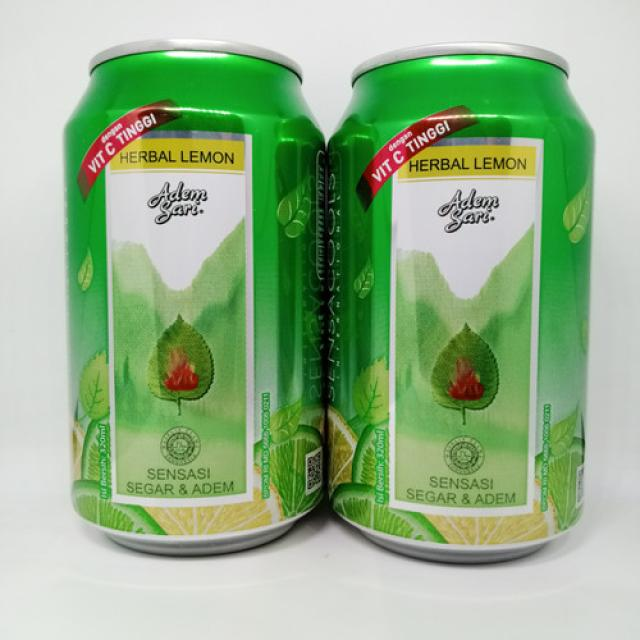ademsarikaleng: (324, 39, 595, 564), (61, 36, 326, 557)
